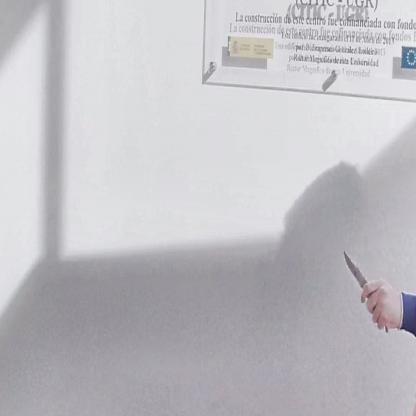knife: (340, 241, 390, 337)
